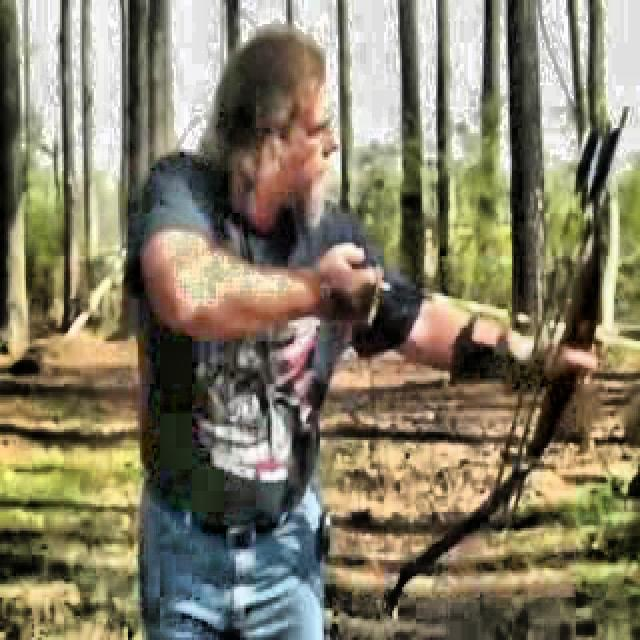I: (138, 17, 552, 621)
